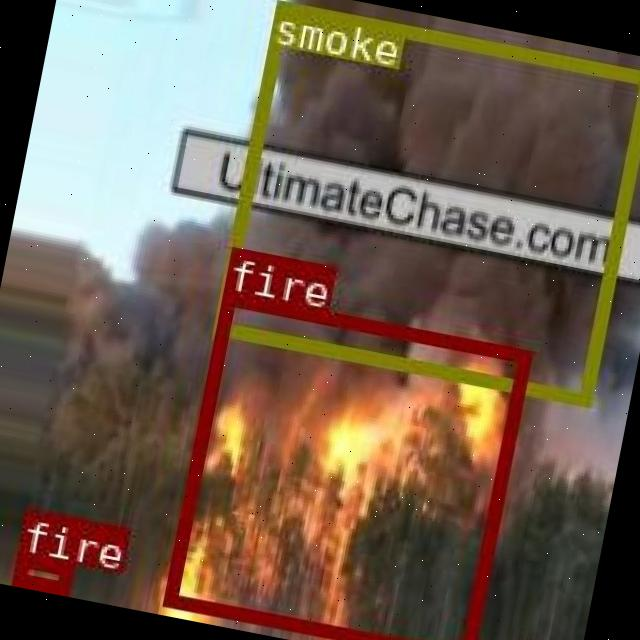fire: (162, 289, 530, 640), (10, 551, 70, 590)
smoke: (210, 0, 640, 404)
